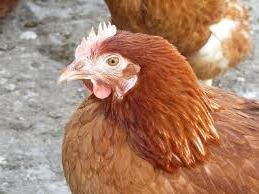AbNormal: (74, 21, 117, 65)
